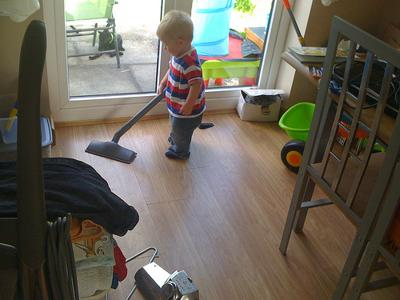person: (157, 10, 209, 161)
